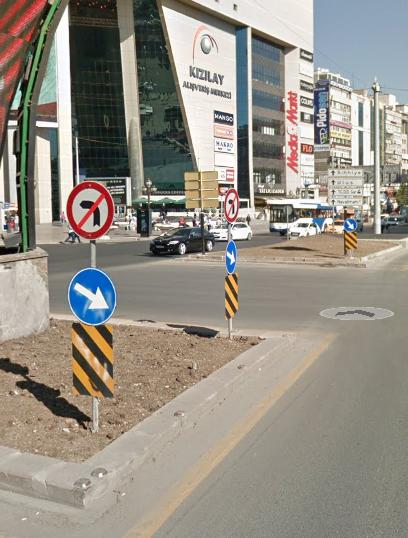leftturnsareforbidden: (61, 178, 120, 249), (222, 188, 243, 226)
